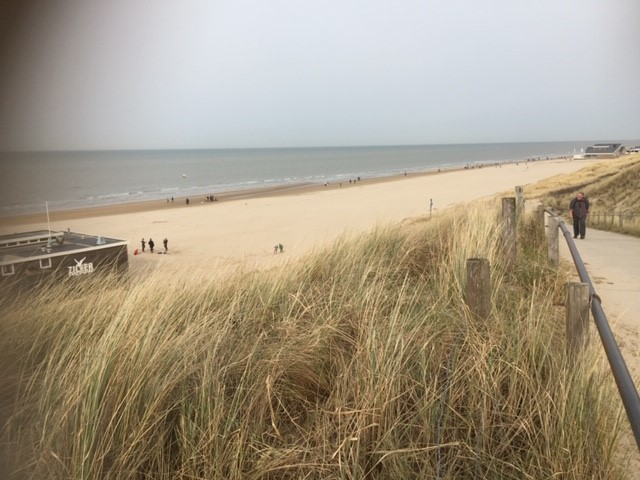pad: (542, 199, 640, 356)
